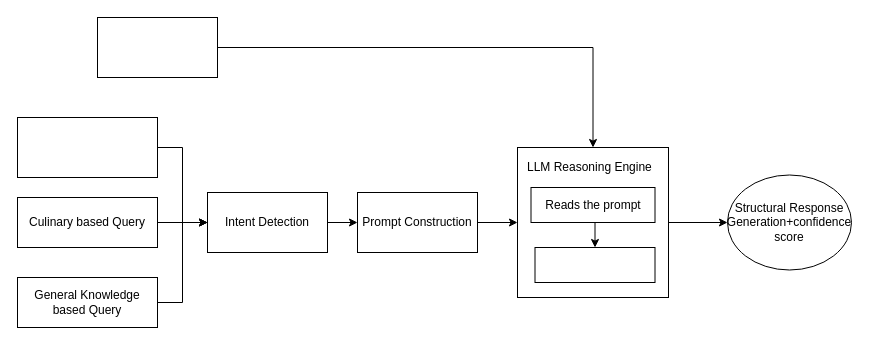
This 869x345 diagram has some shape labels left out. The centre of each missing label's shape, as x and y in pixels:
"Generates explanation text" goes at (x=594, y=264).
"Medicinal based Query" goes at (x=87, y=147).
"Predicted Herb" goes at (x=157, y=47).
